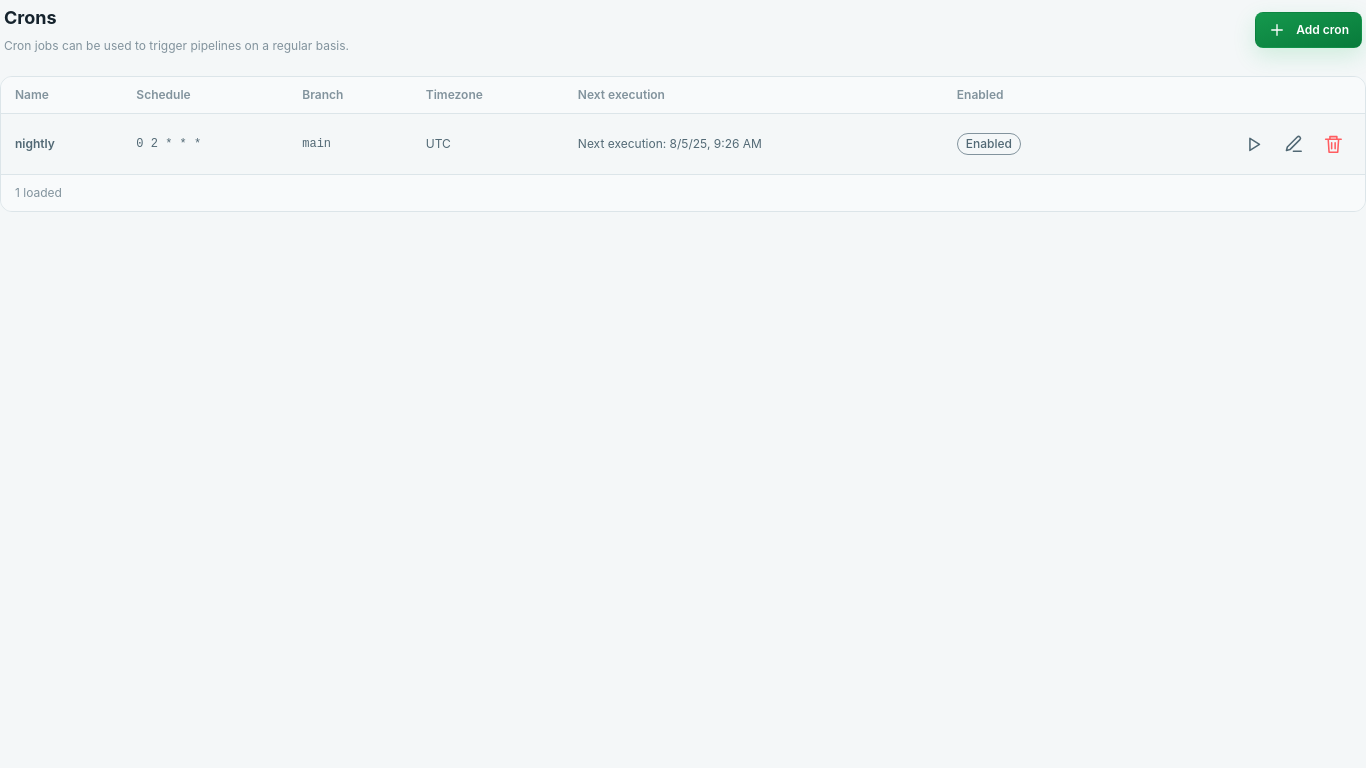
repository cron settings › keeps confirmed cron rows unchanged after canceling or failing an edit
Click the button titled "Edit cron". click: x=1293, y=144
box: 1275,126 -> 1311,162
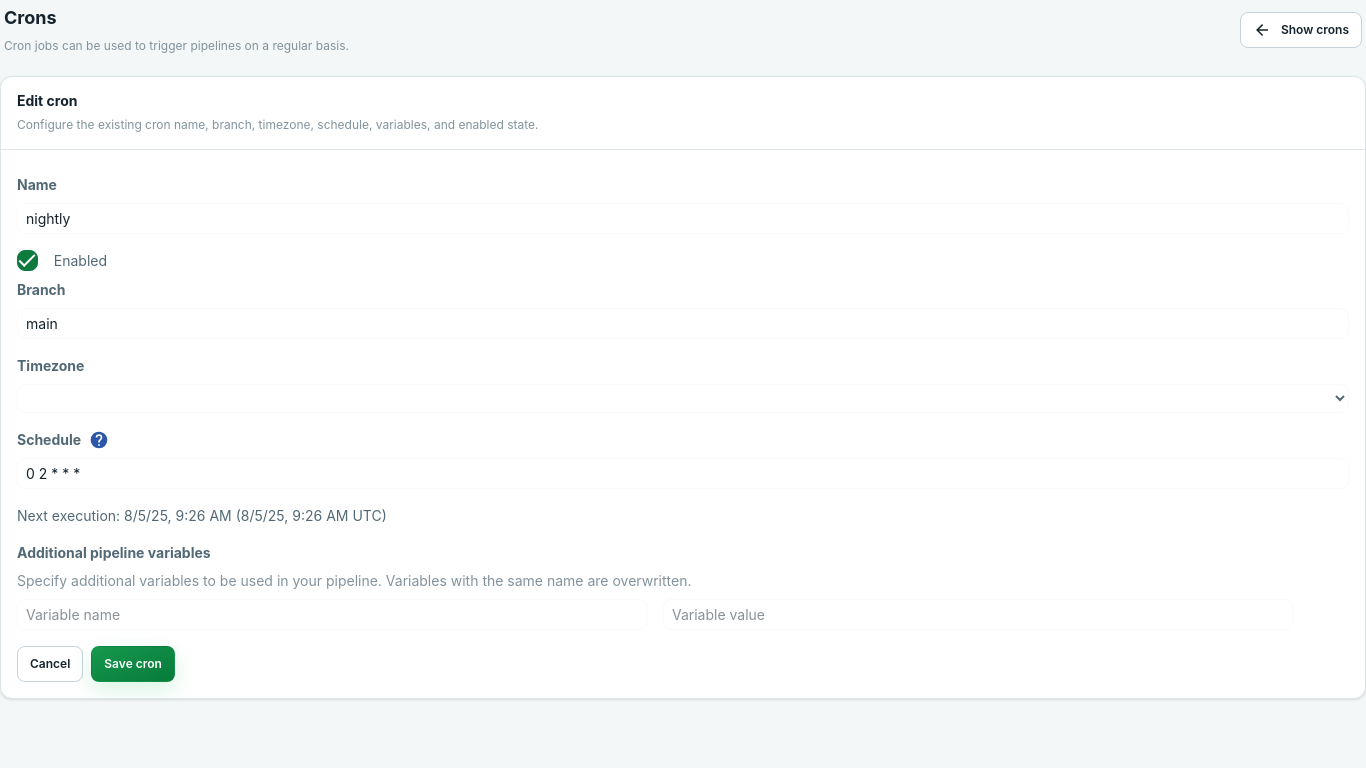
Replace the text in the field labelled "Name" with "changed". click: x=683, y=218
box: 17,203 -> 1349,234
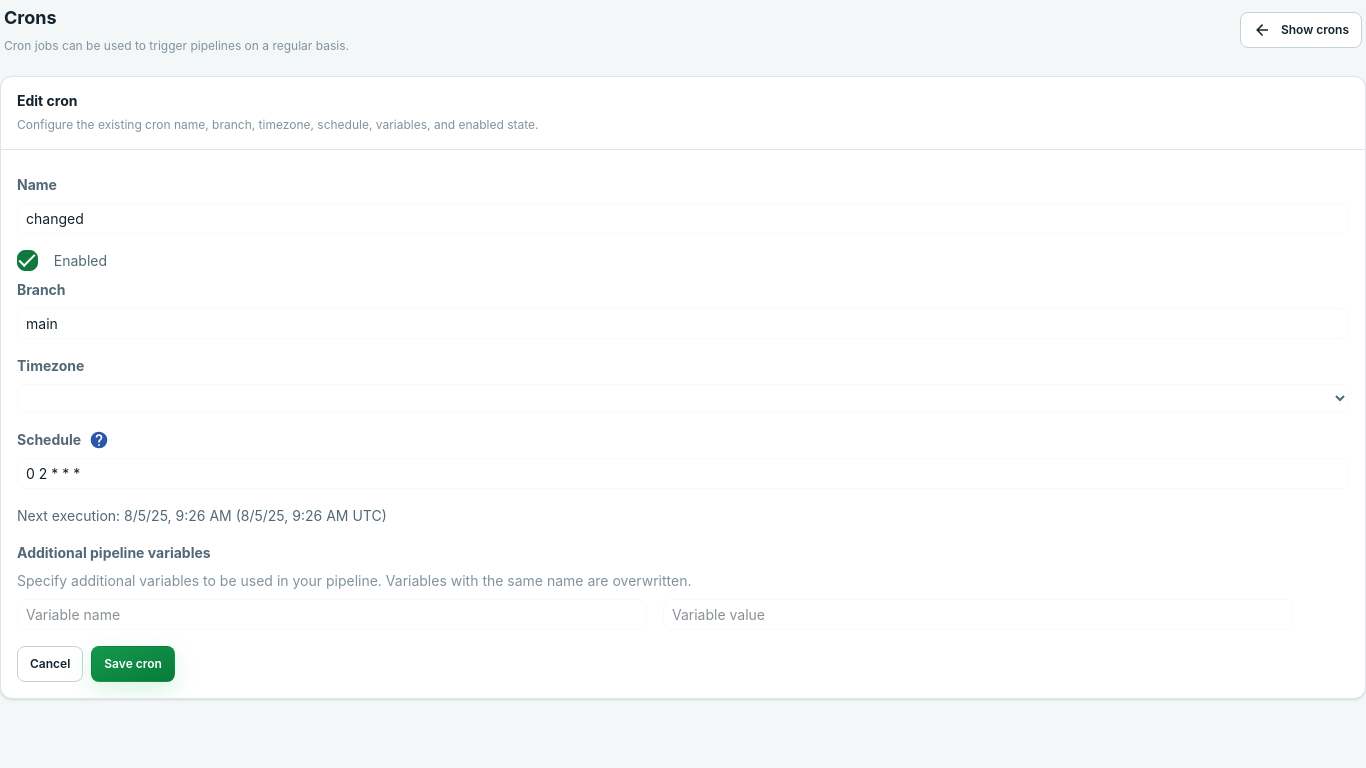
Submit the form
Click the button "Cancel". click: x=50, y=664
box: 17,646 -> 83,682
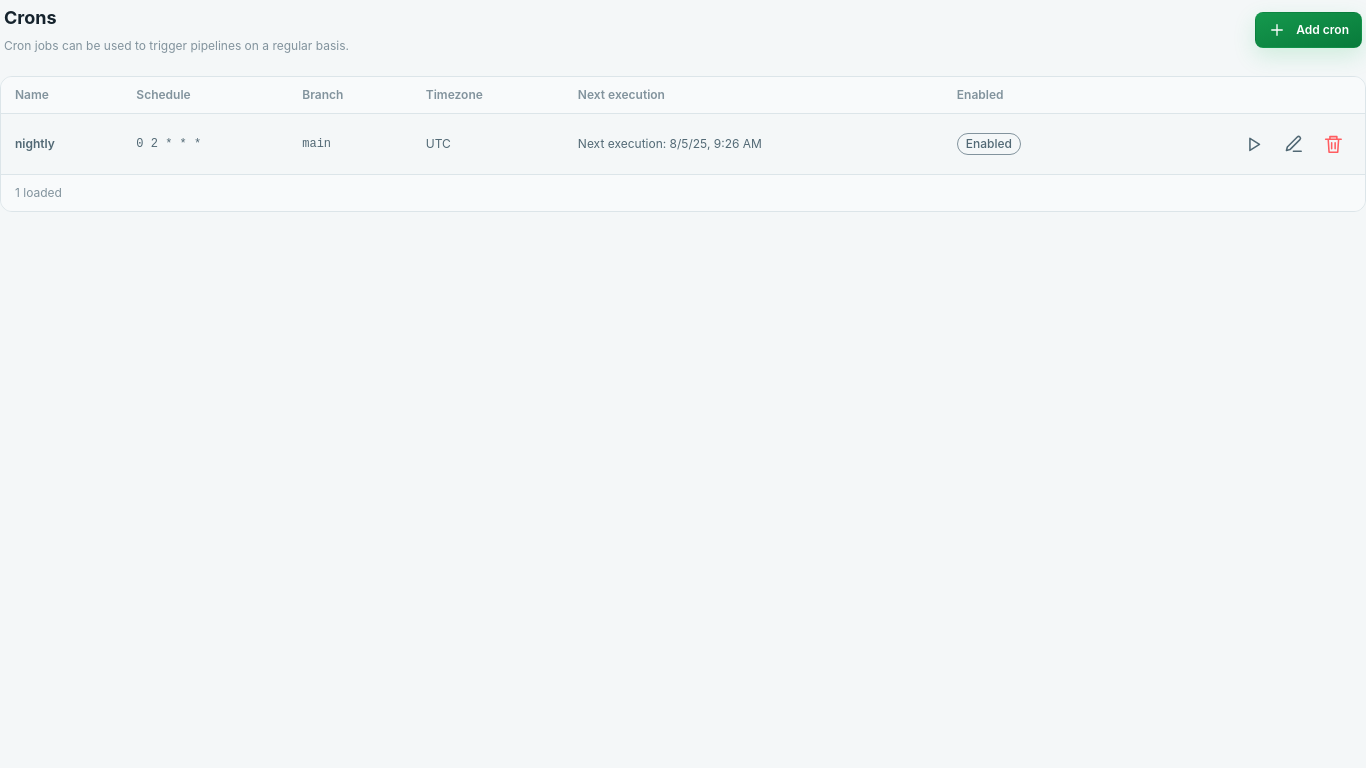
Expected: the text "changed" is not shown
Expected: the row that starts with "nightly" is shown, 15,136 -> 55,151
